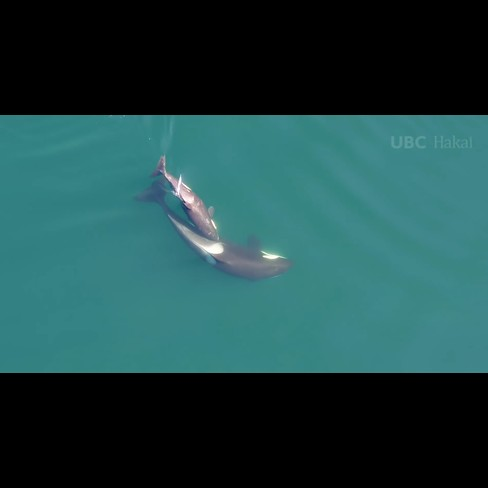orca: (134, 171, 299, 295), (146, 152, 228, 245)
